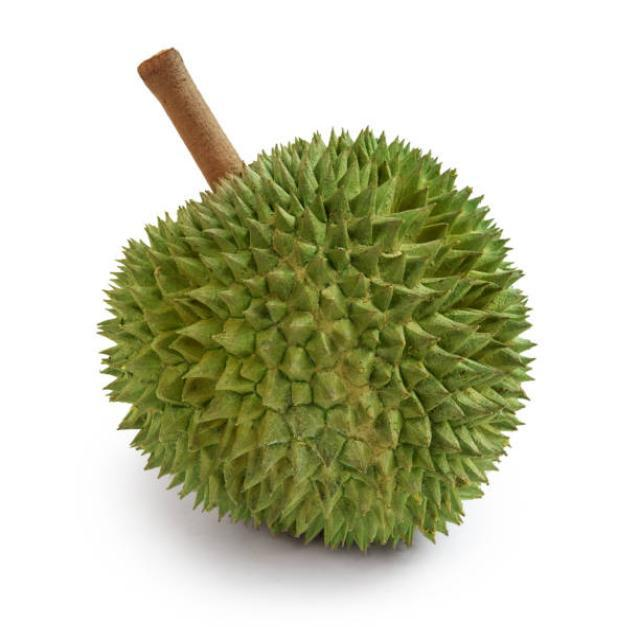immature: (91, 129, 541, 550)
